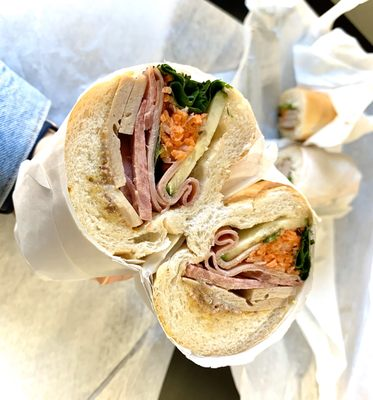soup: (62, 62, 333, 390), (63, 62, 322, 295)
